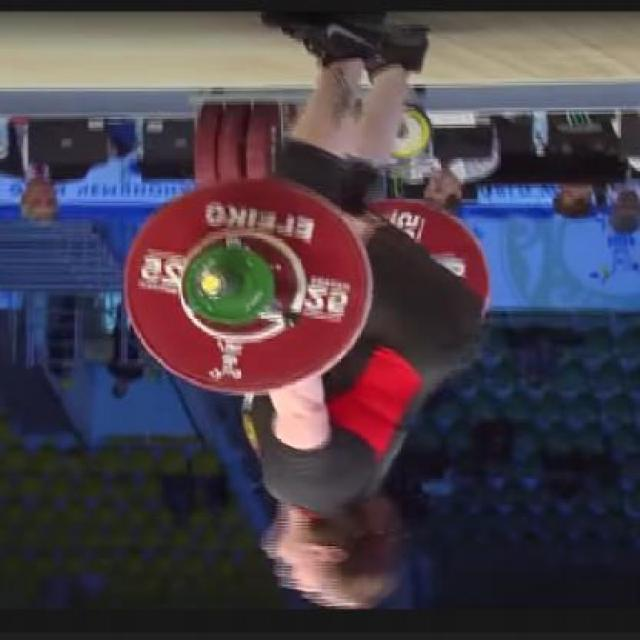Barbell: (193, 268, 232, 306)
